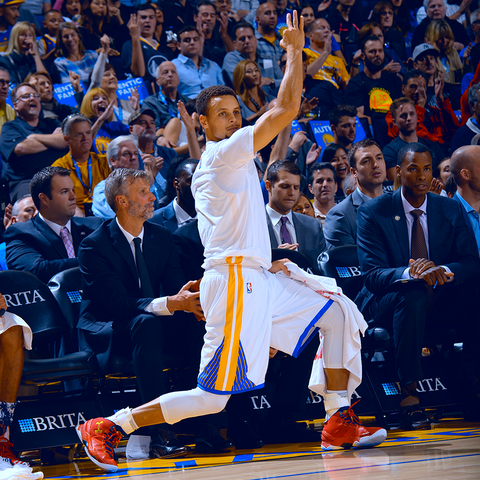player: (78, 9, 392, 468)
